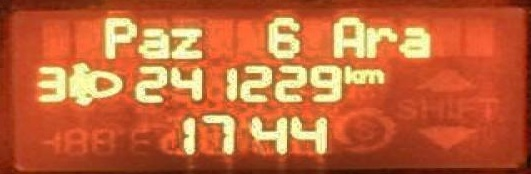1: (175, 112, 195, 155), (218, 64, 238, 101)
2: (132, 63, 167, 104), (236, 63, 270, 103), (271, 62, 305, 102)
3: (35, 64, 65, 103)
4: (245, 113, 288, 157), (288, 112, 328, 155), (168, 64, 205, 101)
6: (262, 13, 302, 59)
7: (196, 110, 235, 155)
9: (307, 62, 342, 103)
X: (100, 14, 136, 59), (328, 13, 363, 59), (168, 25, 205, 59), (396, 24, 430, 58), (365, 23, 396, 58), (137, 25, 168, 59), (358, 66, 383, 84), (342, 61, 357, 84)
